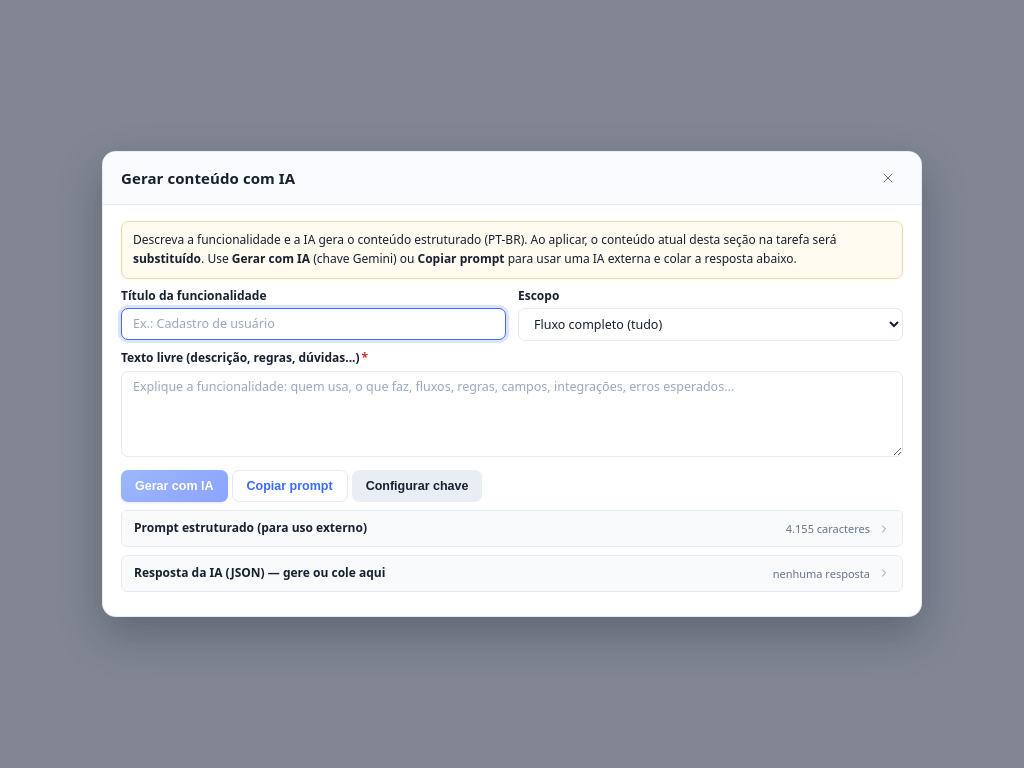
AiModal › desabilita Gerar com IA sem título/descrição e habilita ao preencher
Expected: the button "Gerar com IA" is disabled, [121, 470, 228, 502]
Replace the text in the text box labelled "Texto livre (descrição, regras, dúvidas...)*" with "Cadastro de usuário com validações" at (512, 414), box [121, 371, 903, 457]
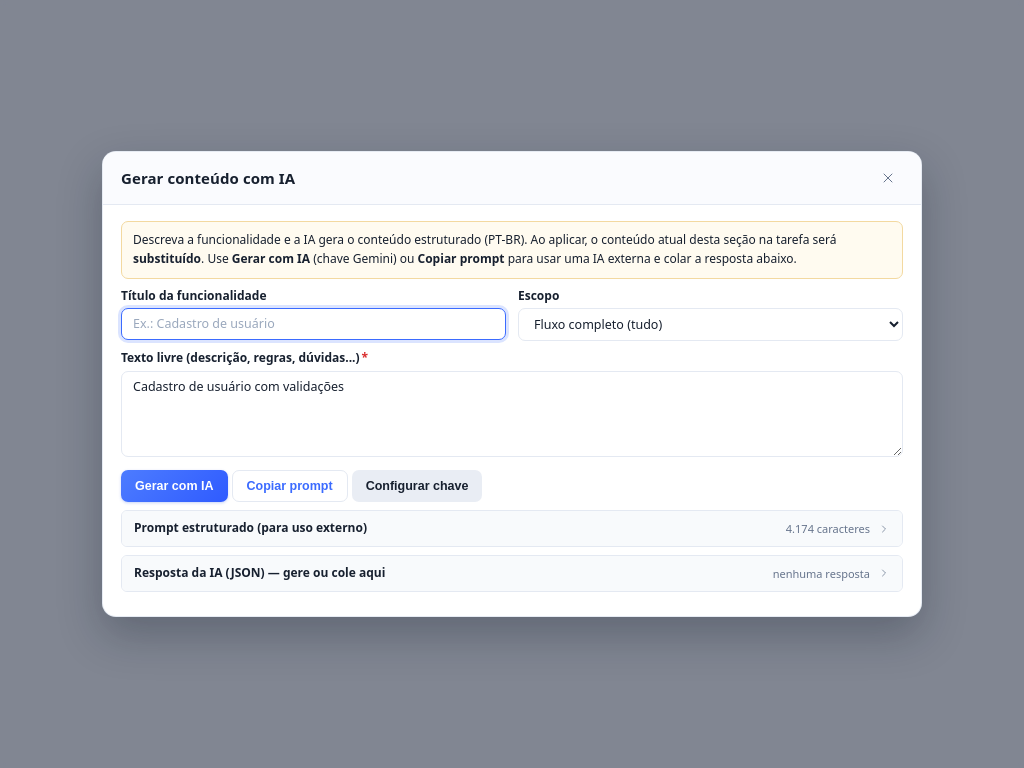
Result: the button "Gerar com IA" is enabled at [121, 470, 228, 502]
